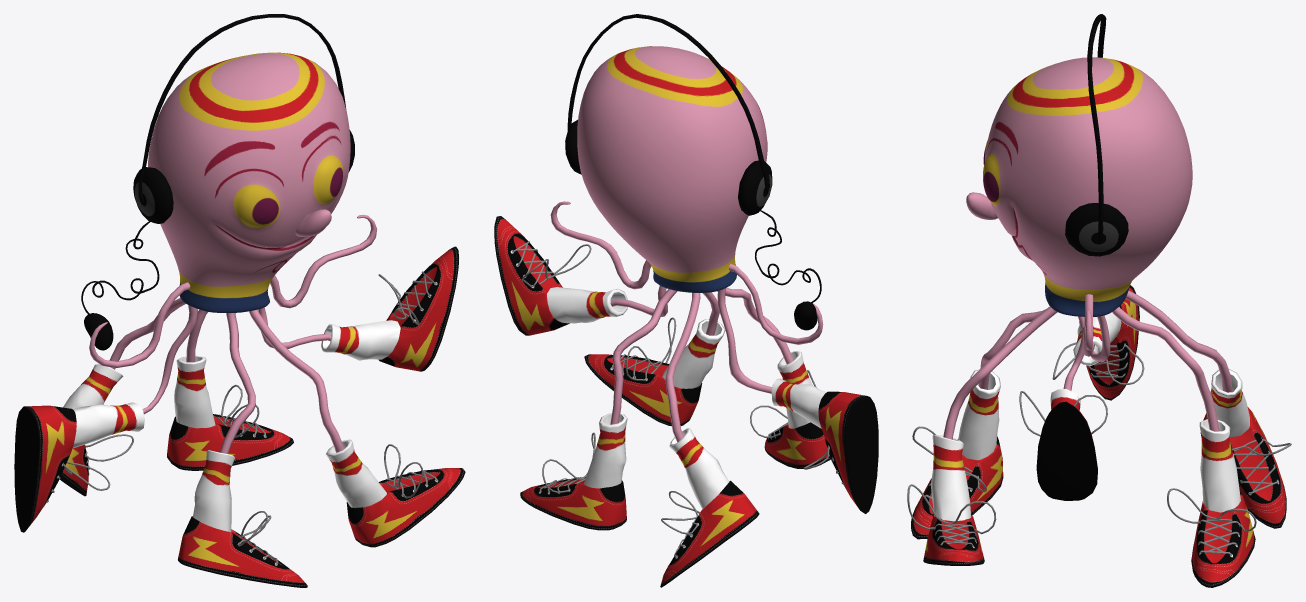
The model's file is oct.glb.
3 renders of one model, left to right at view 1: azimuth 30°, elevation 25°; view 2: azimuth 150°, elevation 25°; view 3: azimuth 270°, elevation 25°, orthographic. The views are drawn at different scales.
Visible parts, largest first — view 1: node_id46; view 2: node_id46; view 3: node_id46.
Boxes of the visible parts, bbox=[...] form: node_id46: bbox=[14, 14, 465, 587]; node_id46: bbox=[494, 14, 878, 587]; node_id46: bbox=[907, 14, 1291, 587].
Bounding box in the file's own units: 0.4272 × 0.512 × 0.324.
Materials: 1 (1 with a texture image).
